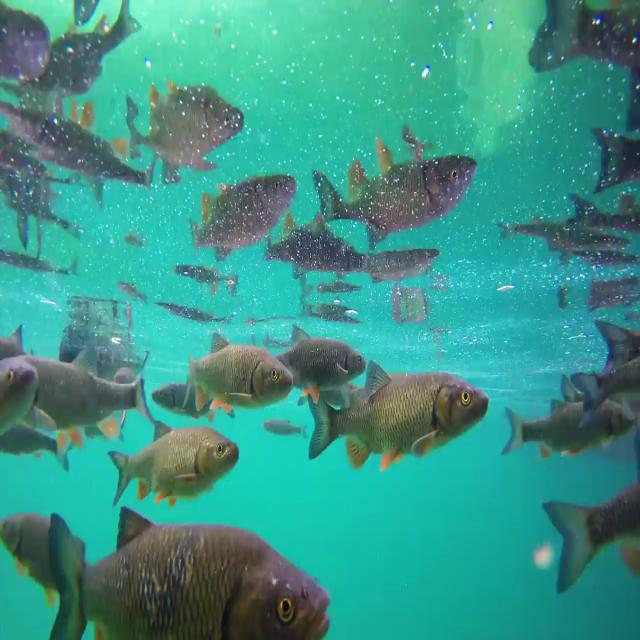fish: (42, 490, 331, 640), (307, 352, 493, 474), (0, 87, 157, 211), (308, 138, 478, 249), (516, 0, 640, 128), (540, 437, 640, 592), (21, 338, 155, 452), (102, 403, 244, 509), (179, 159, 295, 268), (178, 320, 293, 427), (124, 82, 243, 180), (39, 0, 141, 102), (0, 490, 83, 614), (558, 307, 640, 399), (268, 313, 368, 387), (503, 382, 582, 462), (0, 343, 42, 447), (592, 109, 640, 194), (0, 0, 37, 88)
